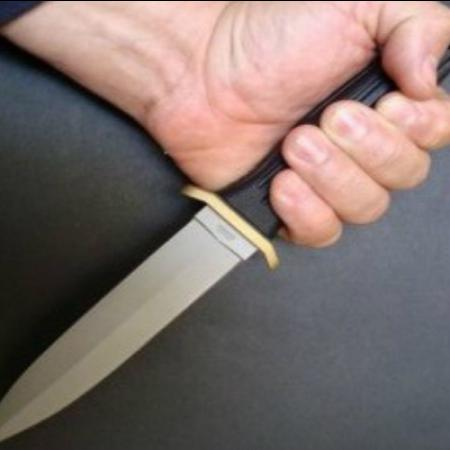long weapon: (1, 109, 397, 450)
